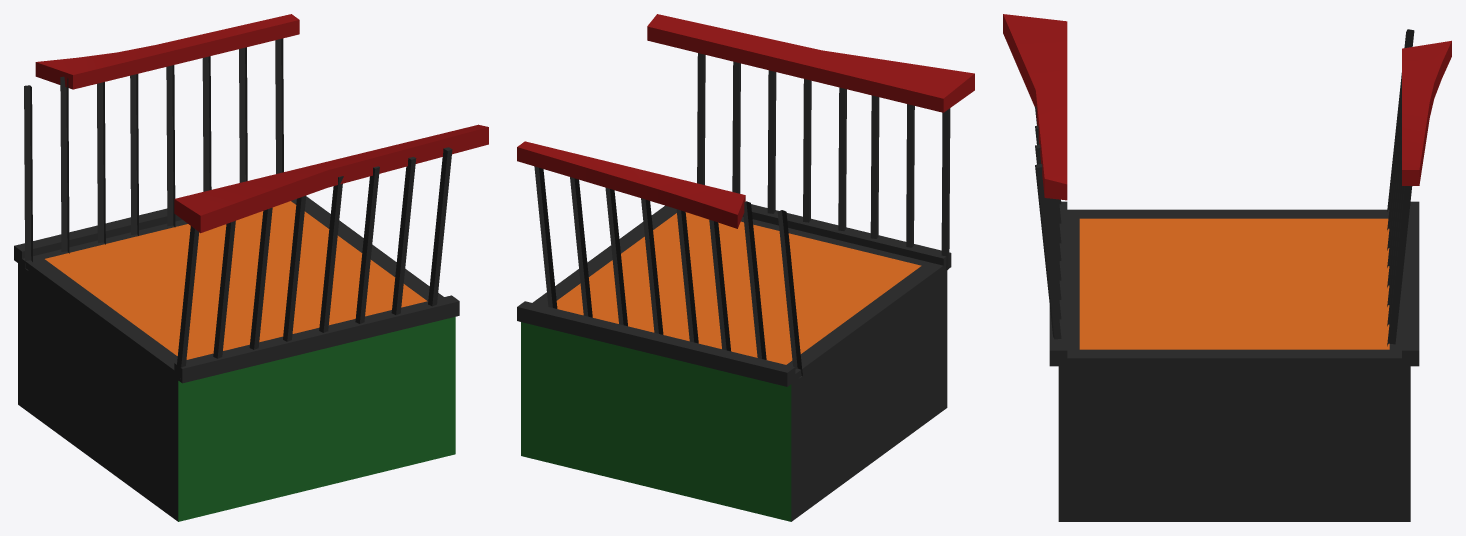
The model's file is MOD_EstradeD.FBX.
The picture shows the model from 3 angles, left to right: view 1: azimuth 30°, elevation 25°; view 2: azimuth 150°, elevation 25°; view 3: azimuth 270°, elevation 25°; orthographic projection. The views are drawn at different scales.
Visible parts, largest first — view 1: Shape008; view 2: Shape008; view 3: Shape008.
Part boxes in pixels (x1,y1,x2,y2): Shape008: (14,14,488,521); Shape008: (517,14,974,521); Shape008: (1003,14,1451,521).
Bounding box in the file's own units: 1.11 × 1.12 × 1.27.
